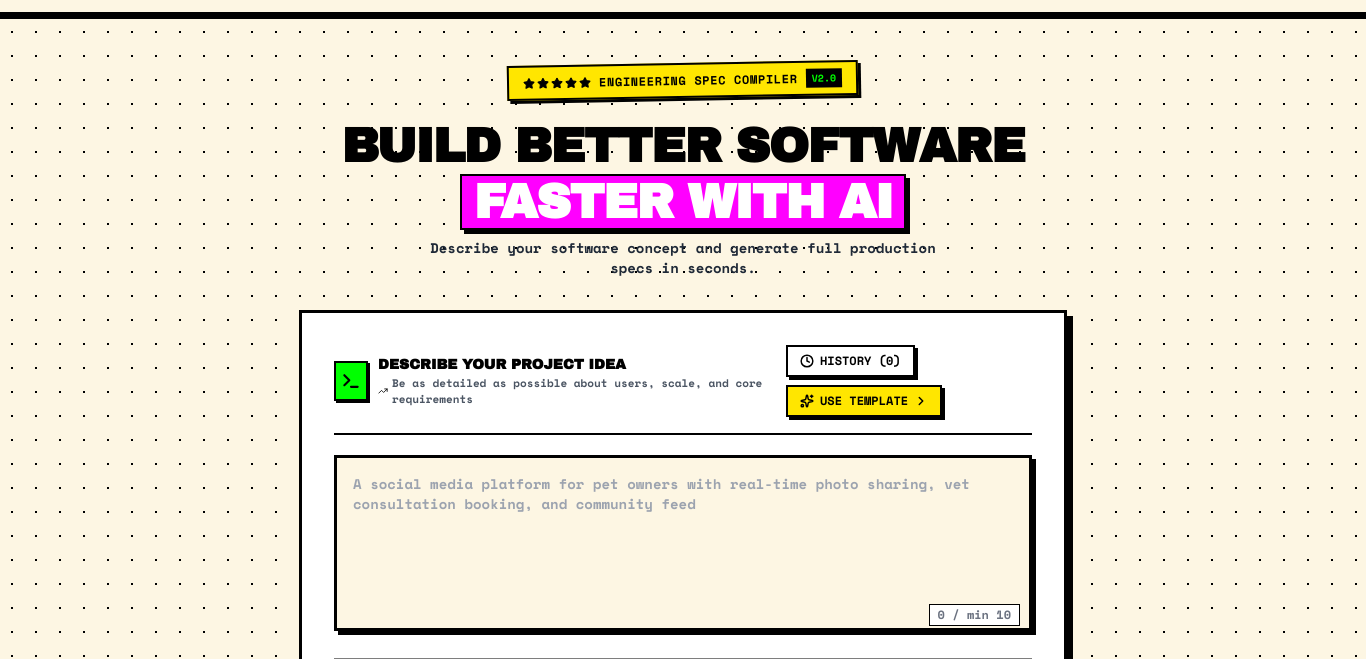
Test: Home Page - Project Idea Input › Input Validation › should show error message when submitting with less than 10 characters
The image size is (1366, 659).
Replace the text in the text box with placeholder "social media platform" with "Short": [683, 543] box [334,455,1032,631]
(page scrolled)
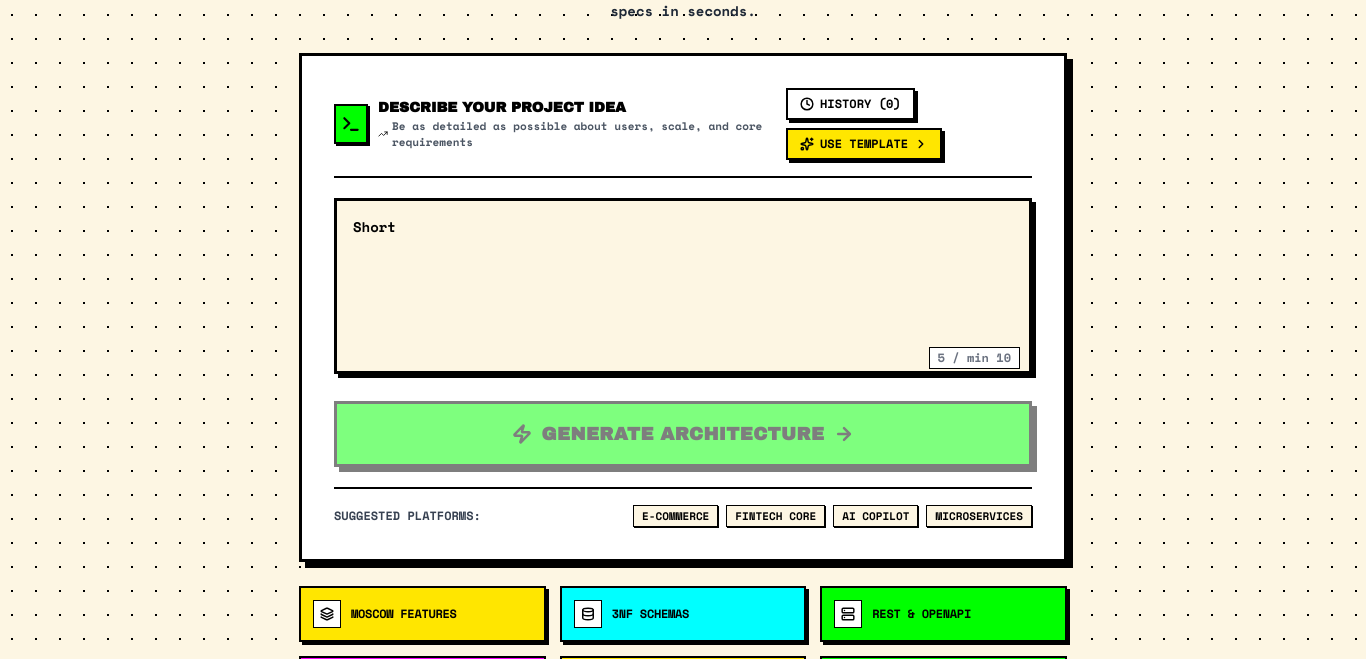
Submit the form with placeholder "social media platform", box [334,198,1032,467]
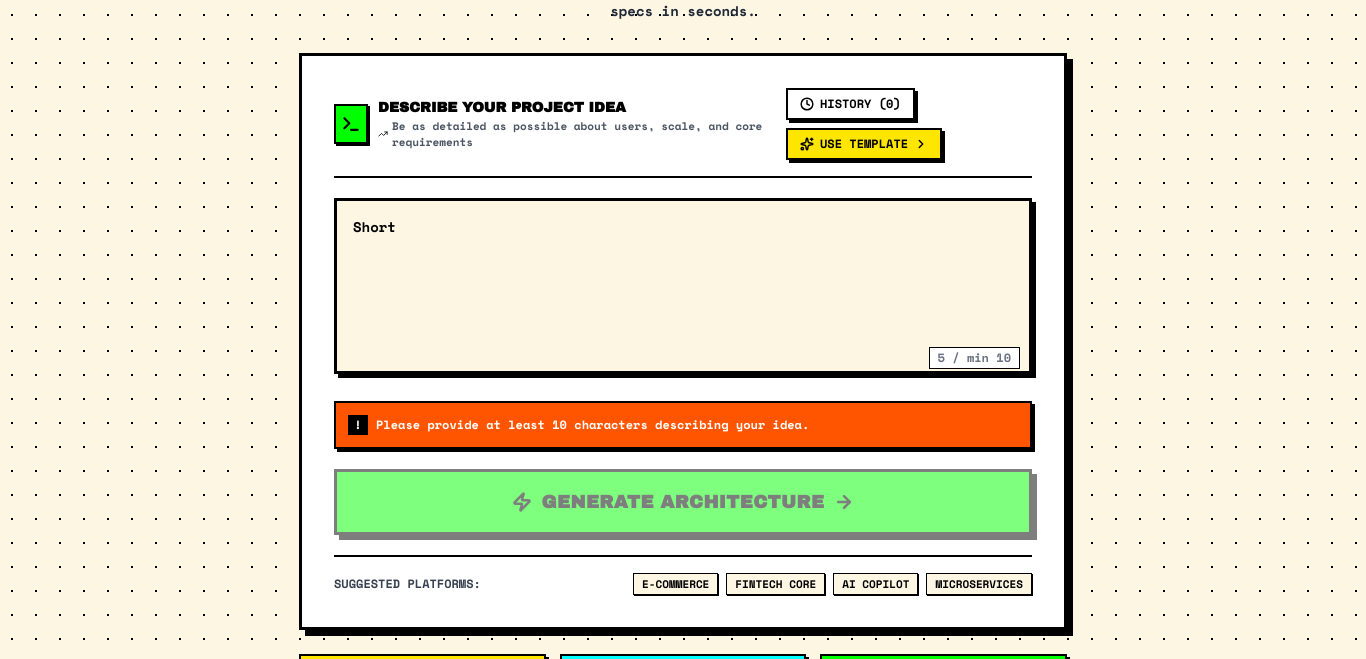
Now the text "Please provide at least 10 characters" is shown, box [376,416,809,433]
